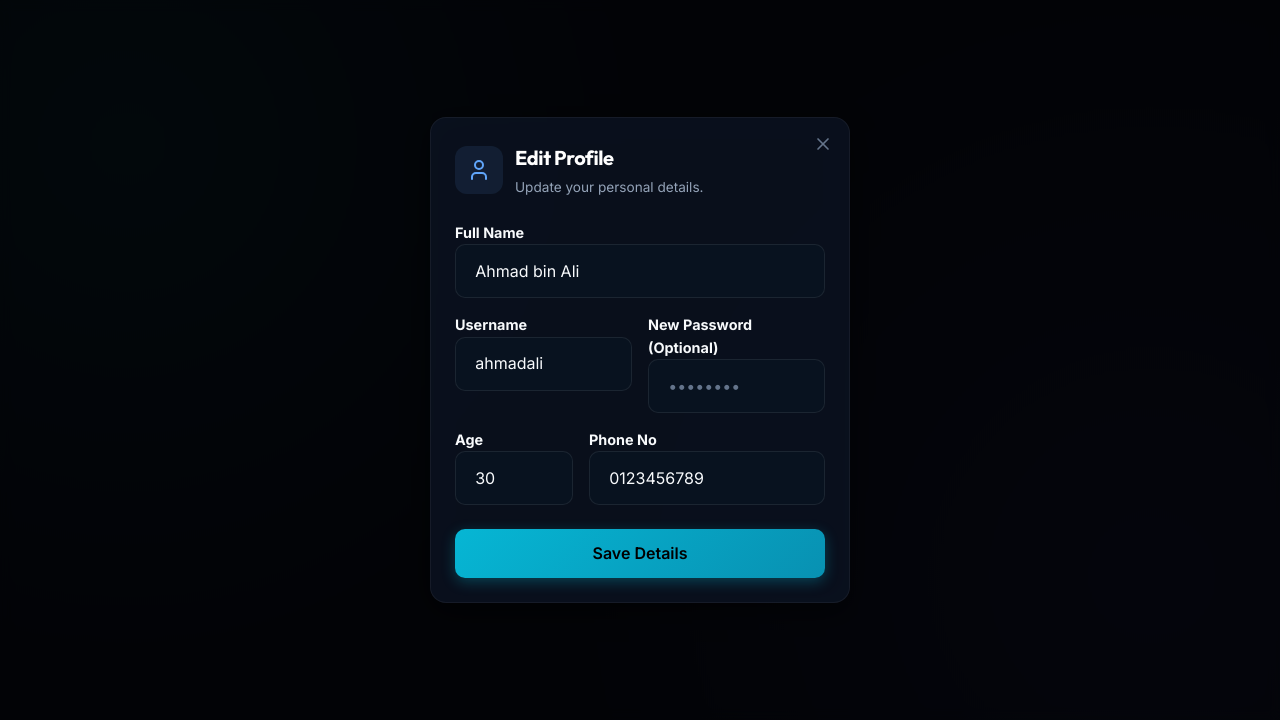
Test: Sprint Fixes & Enhancements › Item 3: Edit Profile Password Change › requires current password when a new password is typed
// Enter new password without entering current password
In the password field with placeholder "••••••••": (736, 386) x1=648 y1=359 x2=825 y2=413, type "NewSecret123!"
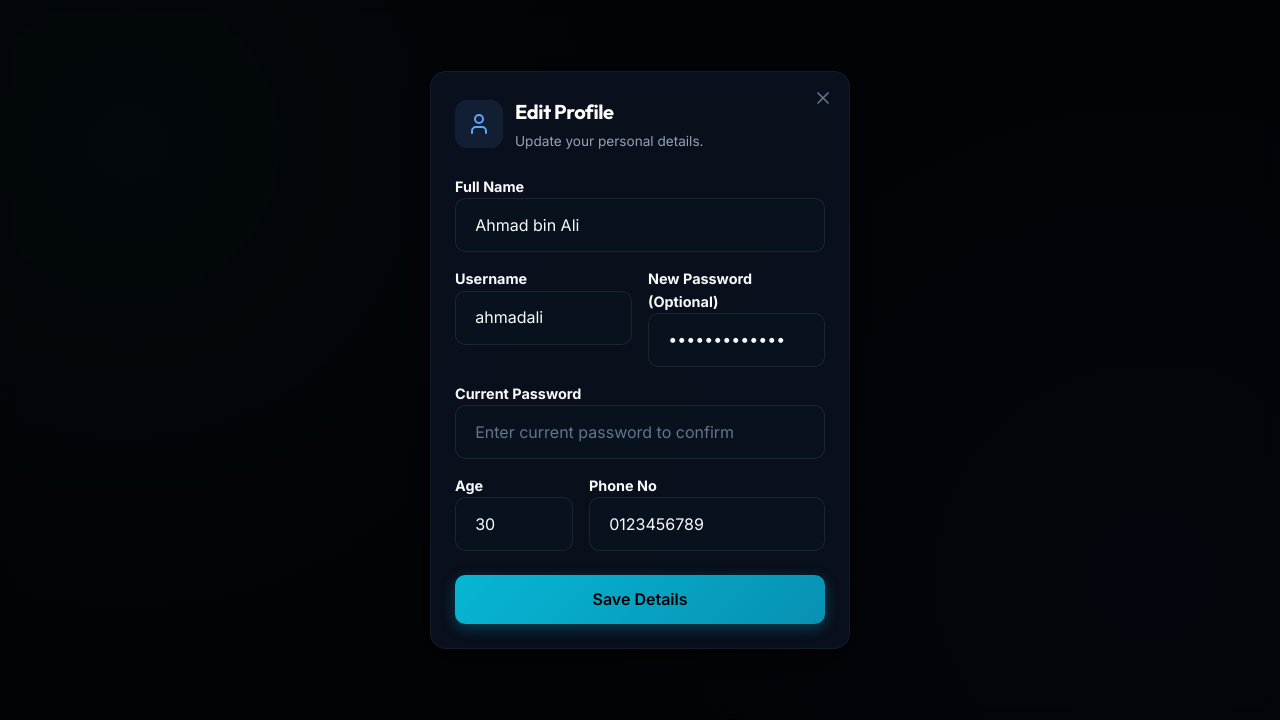
// Click save
Click the button "Save Details": (640, 600) x1=455 y1=575 x2=825 y2=624
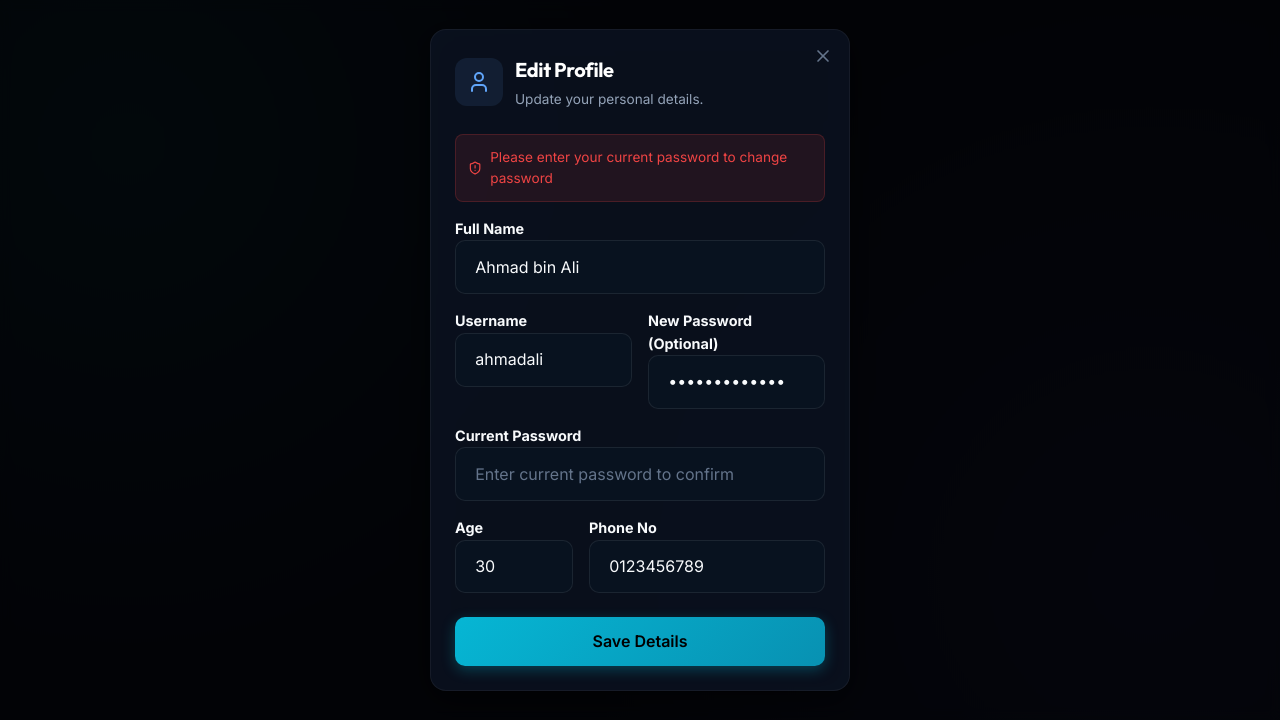
Check: the text "Please enter your current password to change password" is shown, box x1=455 y1=134 x2=825 y2=202
